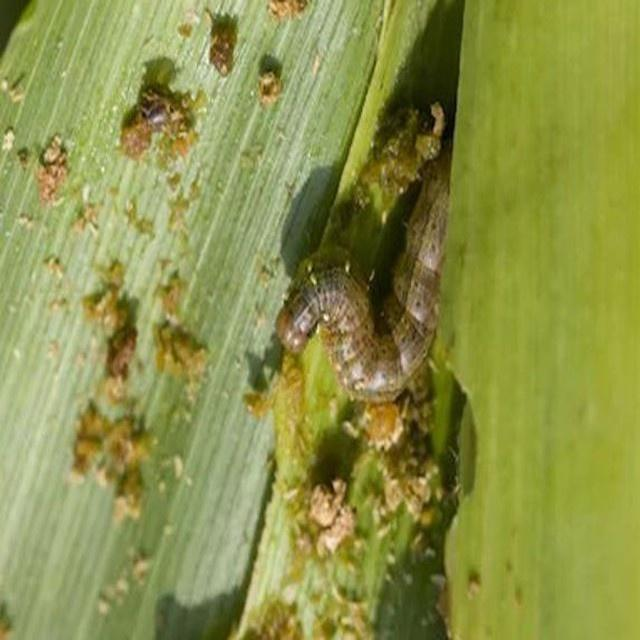gusano_cogollero: (272, 132, 456, 408)
